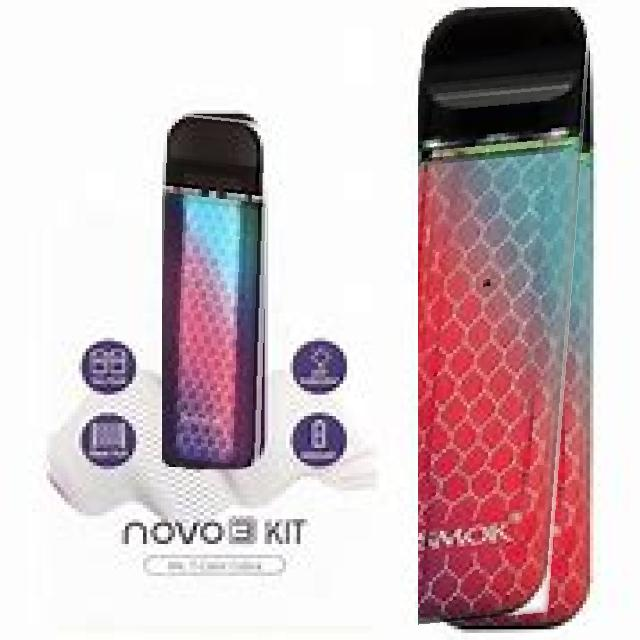Vapes: (418, 7, 594, 629), (162, 111, 270, 467)
